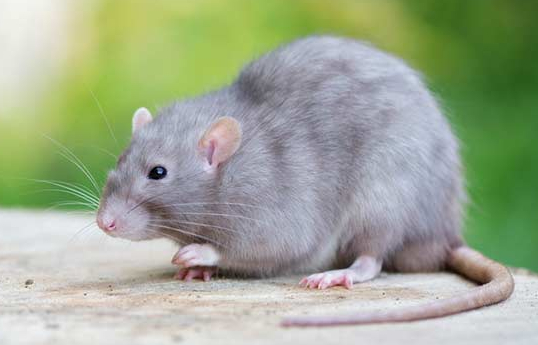rat: (55, 27, 523, 332)
